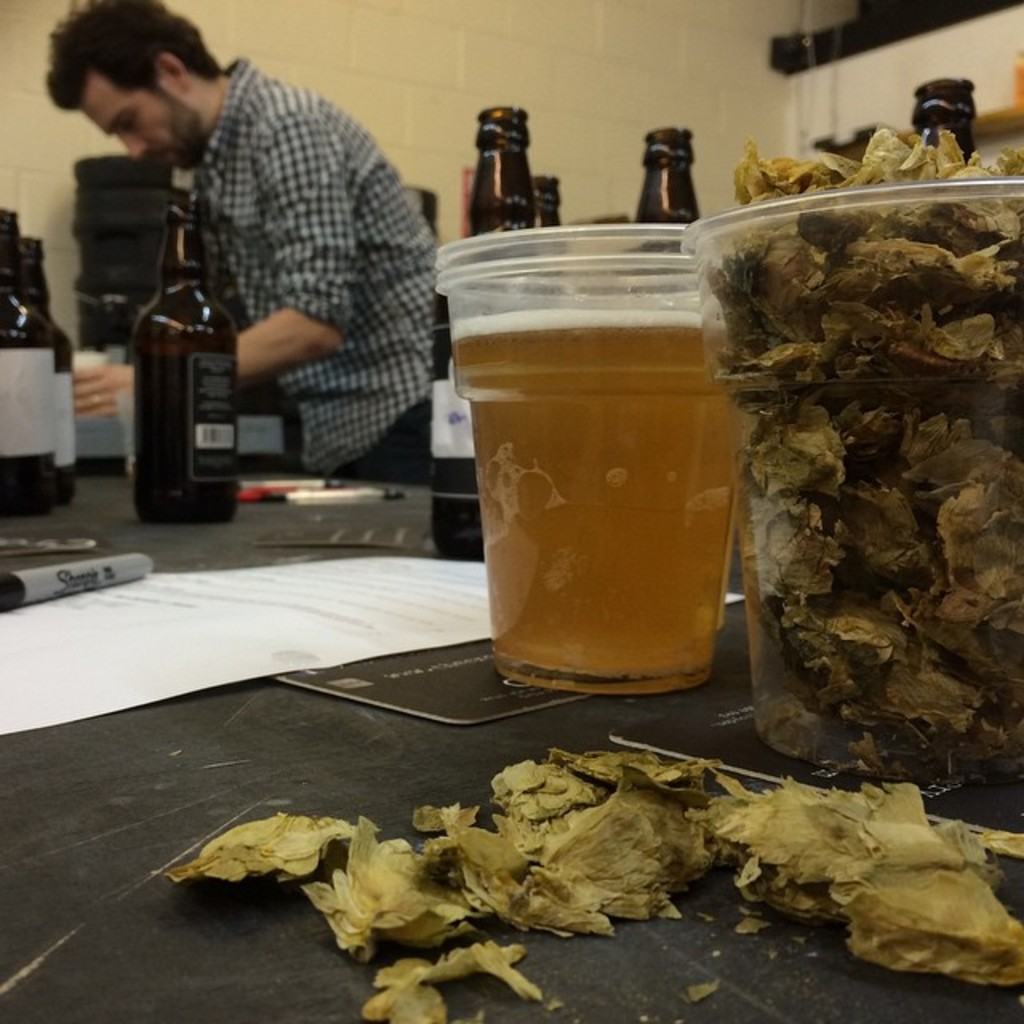Beer: (443, 299, 739, 688)
